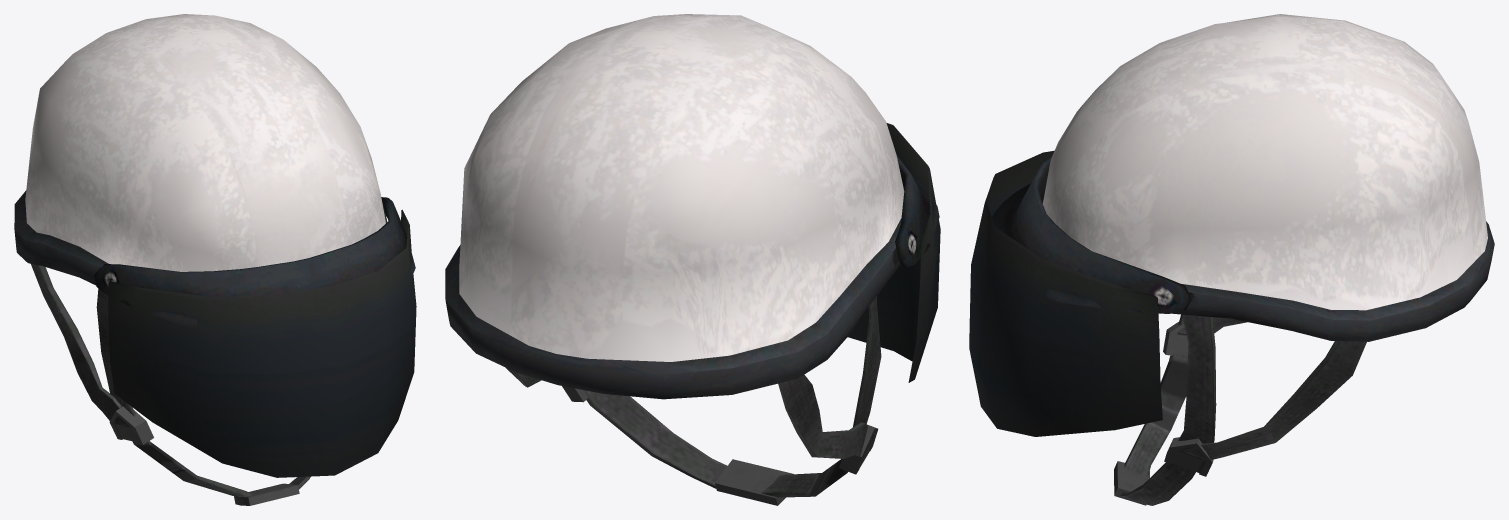
Rendered from helmet.FBX.
3 views of the same model, side by side, from view 1: azimuth 30°, elevation 25°; view 2: azimuth 150°, elevation 25°; view 3: azimuth 270°, elevation 25° (orthographic). The views are drawn at different scales.
Parts seen in each view (by area): view 1: B_Motocycle_0_018_2, B_Motocycle_0_002_1_1, B_Motocycle_0_018_1; view 2: B_Motocycle_0_018_2, B_Motocycle_0_018_1, B_Motocycle_0_002_1_1; view 3: B_Motocycle_0_018_2, B_Motocycle_0_002_1_1, B_Motocycle_0_018_1.
Part boxes in pixels (x1=…): B_Motocycle_0_018_2: x1=14, y1=14, x2=415, y2=327; B_Motocycle_0_002_1_1: x1=108, y1=209, x2=416, y2=477; B_Motocycle_0_018_1: x1=31, y1=264, x2=310, y2=505; B_Motocycle_0_018_2: x1=445, y1=14, x2=939, y2=399; B_Motocycle_0_018_1: x1=505, y1=296, x2=881, y2=505; B_Motocycle_0_002_1_1: x1=848, y1=123, x2=940, y2=382; B_Motocycle_0_018_2: x1=992, y1=14, x2=1494, y2=341; B_Motocycle_0_002_1_1: x1=969, y1=150, x2=1162, y2=436; B_Motocycle_0_018_1: x1=1114, y1=314, x2=1366, y2=505.
Bounding box in the file's own units: 8.58 × 11.25 × 11.67.
5 materials, 5 textured.
